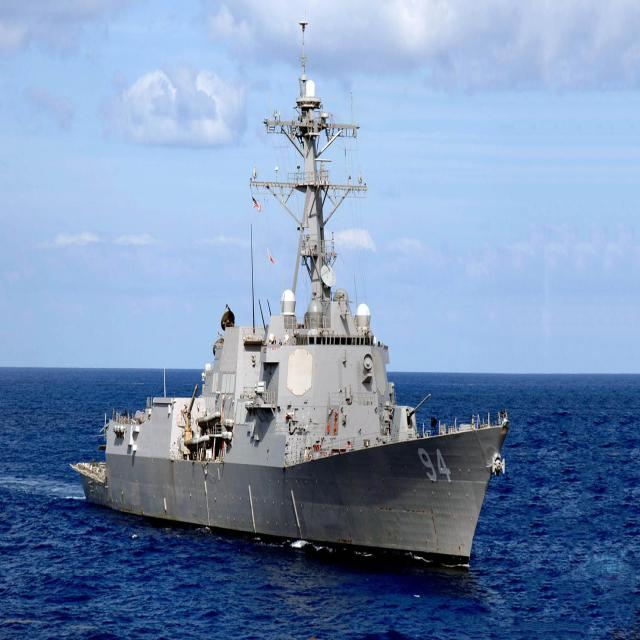navalvessels: (70, 72, 524, 610)
